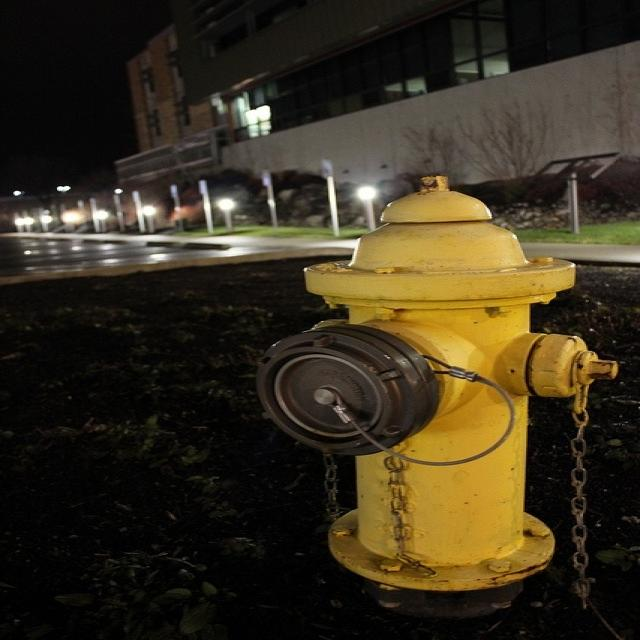fire_hydrant: (248, 147, 593, 569)
